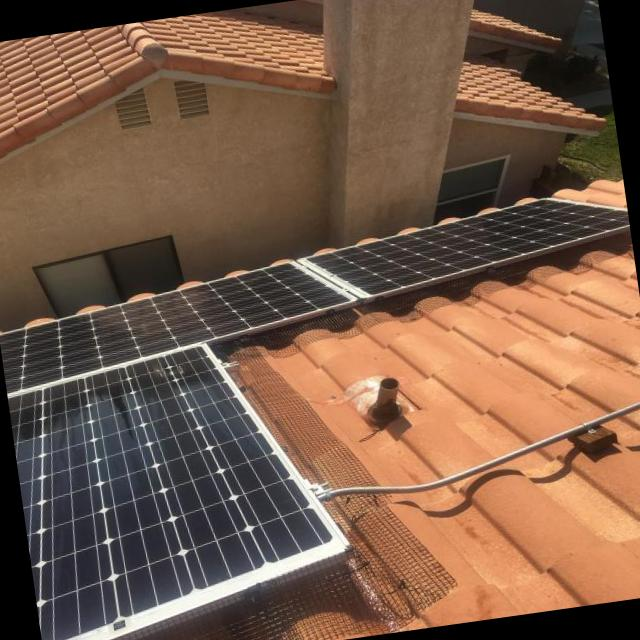no faulty: (10, 344, 330, 639), (311, 201, 627, 292)
